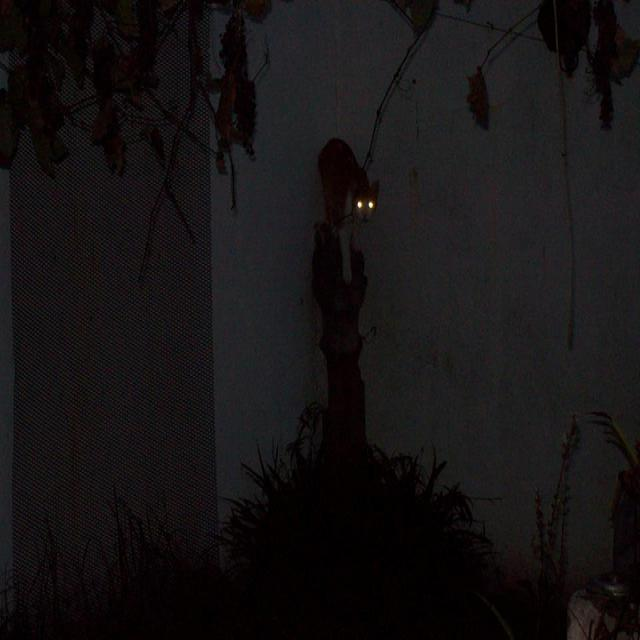Cat: (307, 132, 388, 251)
